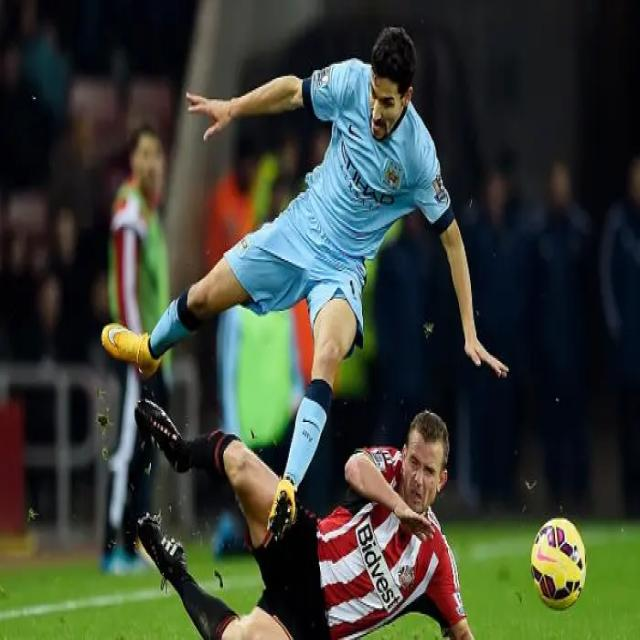like-hurt: (406, 434, 434, 516), (365, 71, 395, 139)
possible foul: (89, 31, 500, 636)
